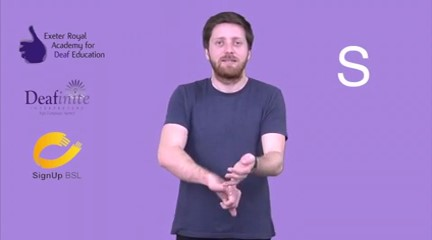S: (212, 149, 266, 221)
